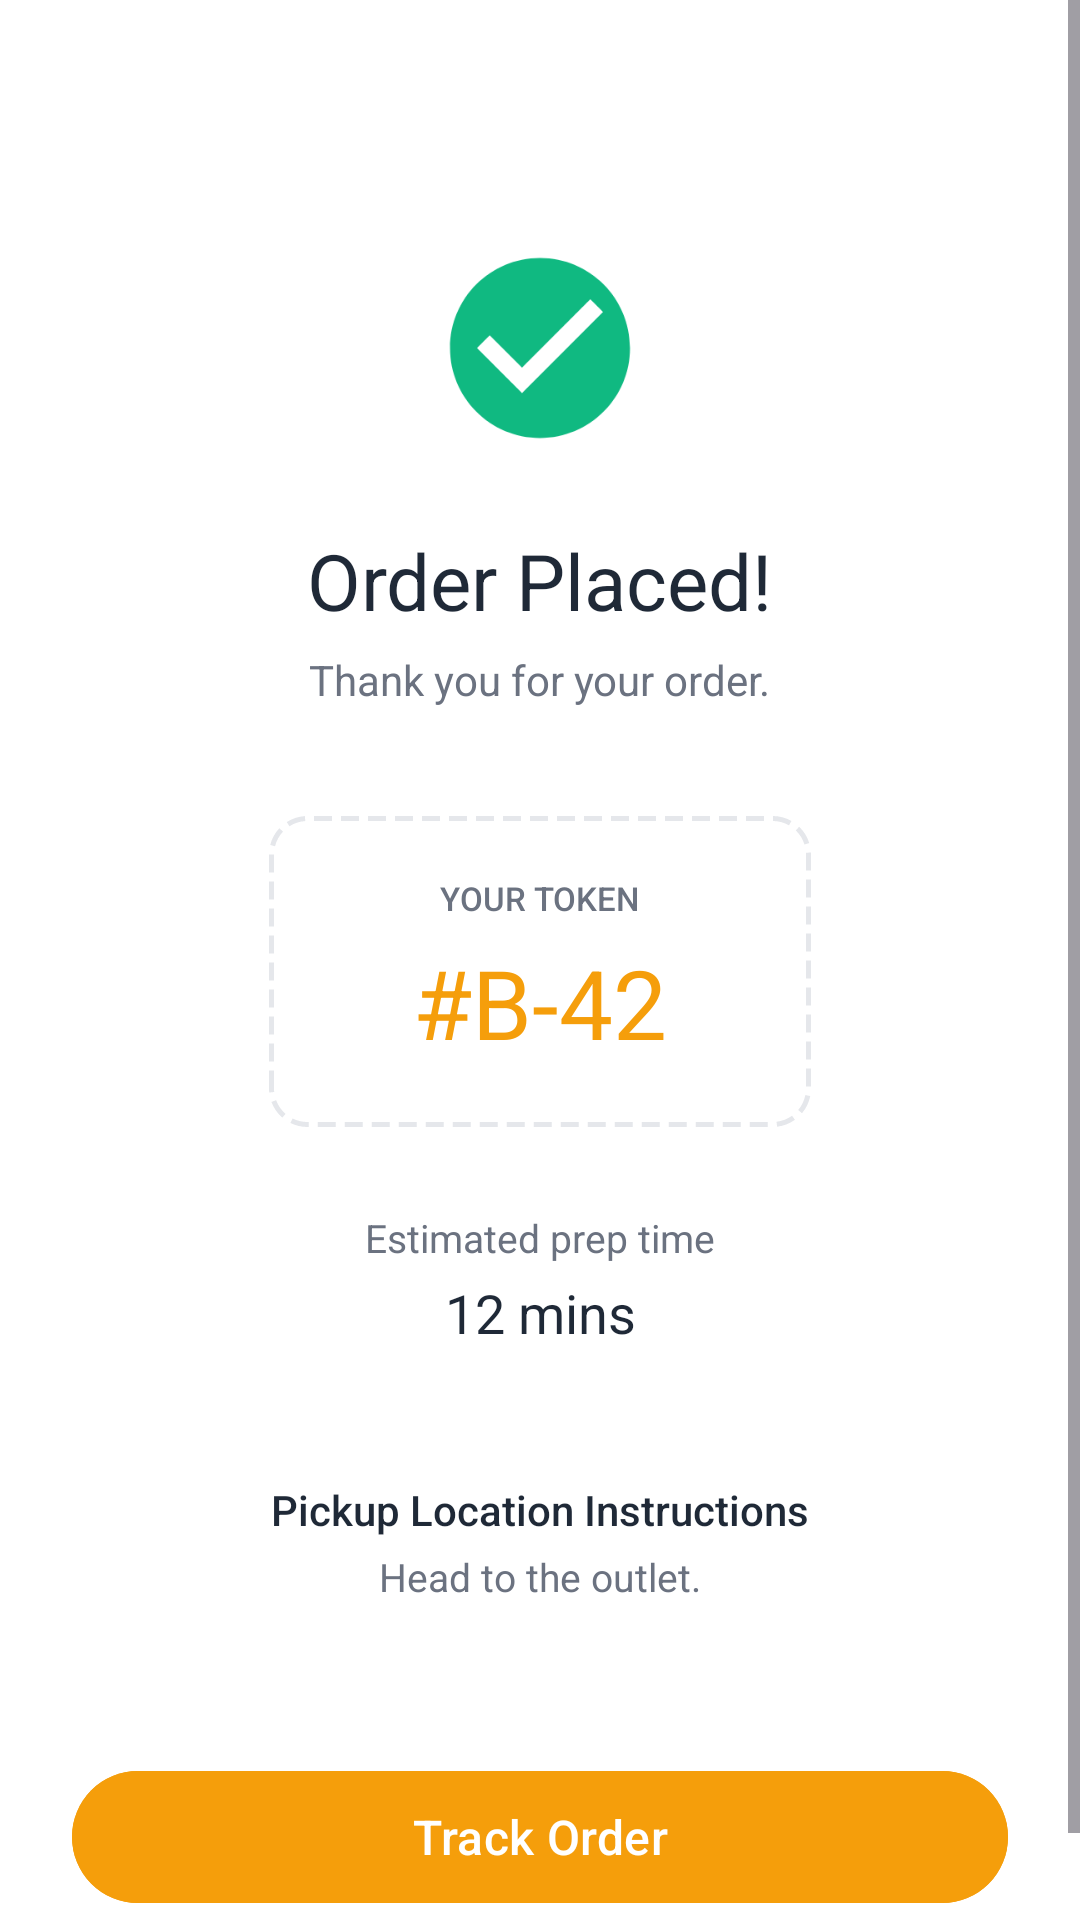

Named icons in this screenshot (1080*1920) and their bounding boxes, (x1, y1, x2, y2):
Success: (449, 257, 631, 439)
